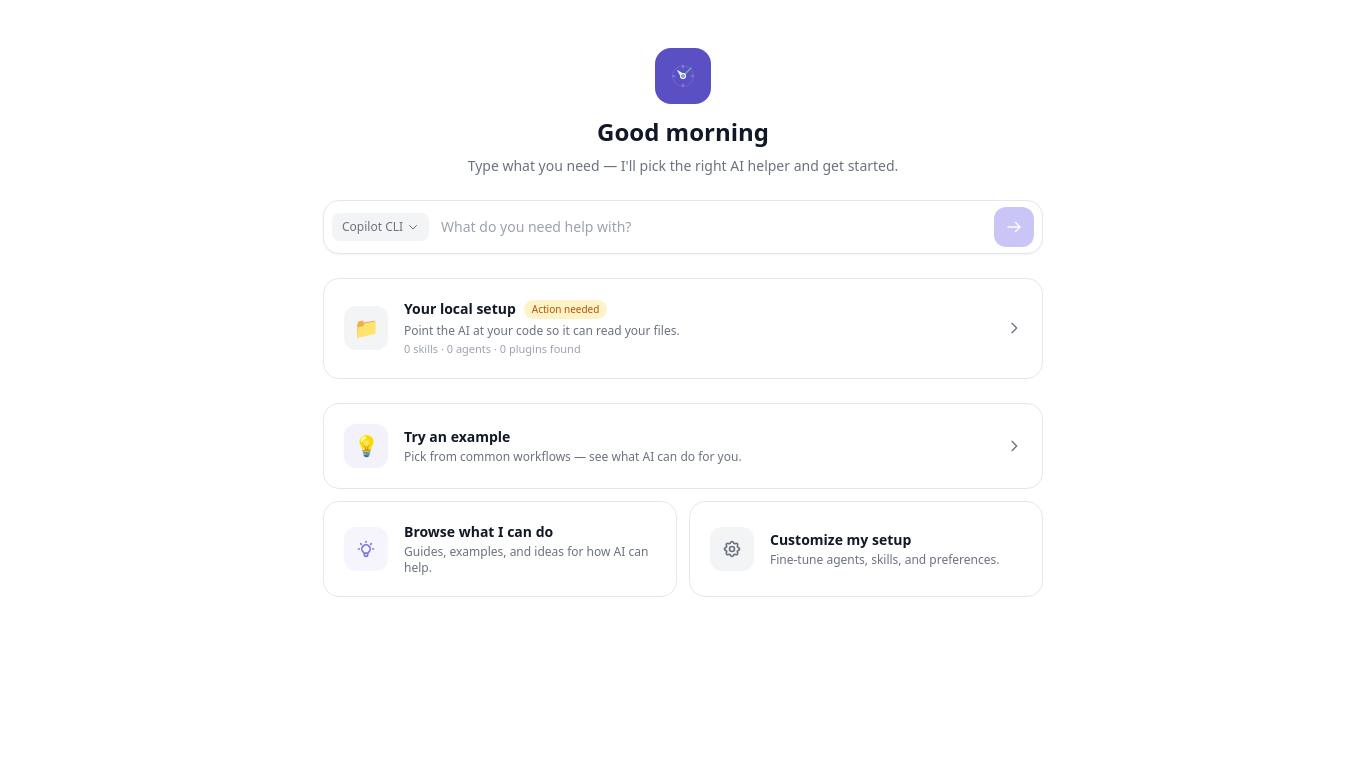
it: HomeHub — Mode B (setup complete) › opens the Try-an-example modal when the hero card is clicked
The width and height of the screenshot is (1366, 768).
Click the heading "Try an example". click: [457, 436]
box: [404,426,510,446]
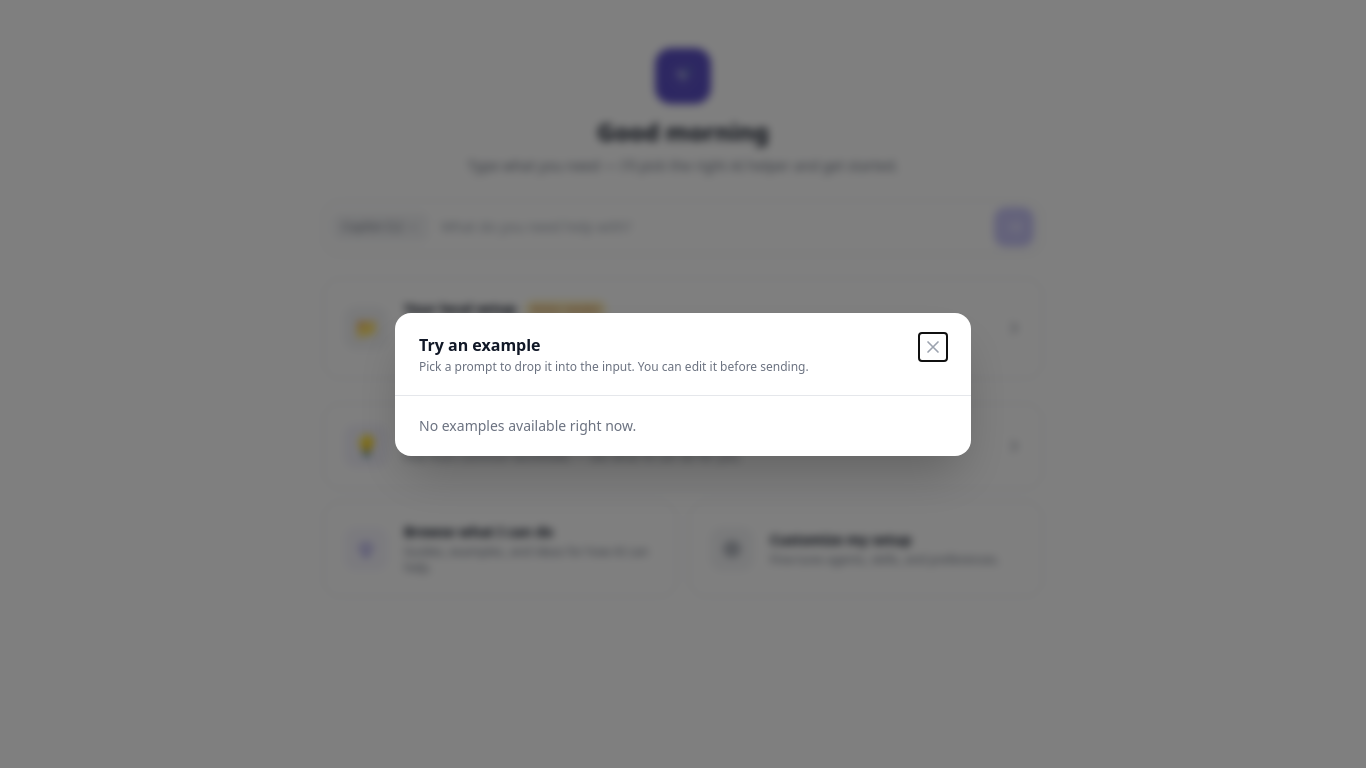
Expected: the dialog "Try an example" is shown, [395,312,971,456]
